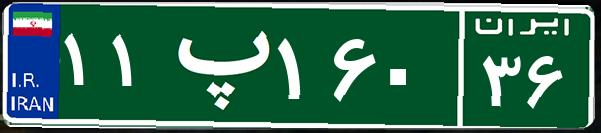0: (385, 28, 445, 110)
1: (273, 28, 330, 110), (57, 26, 110, 107), (110, 28, 158, 105)
3: (475, 38, 525, 113)
6: (330, 28, 385, 110), (525, 38, 570, 115)
پ: (158, 15, 273, 115)
